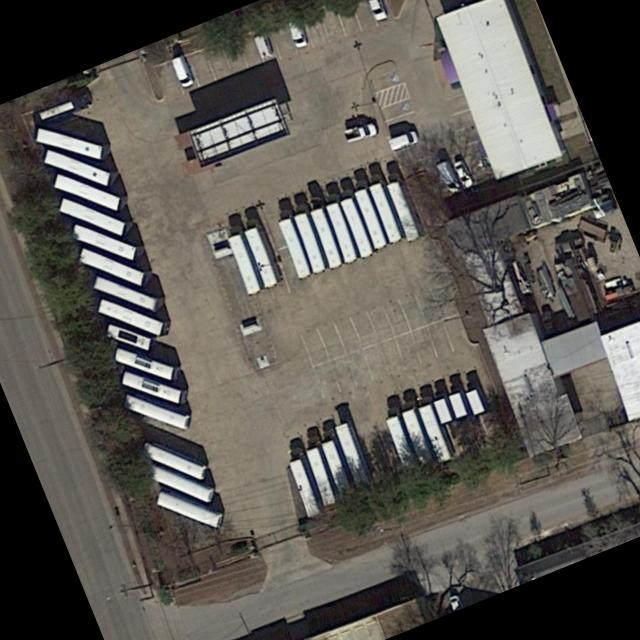large-vehicle: (333, 420, 376, 494), (53, 170, 121, 214), (97, 295, 164, 338), (58, 195, 125, 238), (123, 391, 190, 433), (242, 223, 284, 290), (79, 245, 144, 287), (141, 440, 206, 482), (148, 462, 213, 504), (226, 230, 266, 298), (72, 222, 138, 263), (156, 489, 222, 530), (44, 148, 111, 187), (93, 272, 157, 312), (400, 404, 438, 470), (278, 214, 315, 281), (384, 412, 422, 477), (368, 179, 405, 245), (416, 401, 454, 465), (309, 206, 346, 271), (386, 178, 424, 241), (339, 195, 376, 259), (320, 436, 357, 500), (431, 395, 468, 458), (353, 185, 389, 249), (293, 211, 329, 275), (325, 201, 361, 264), (304, 443, 340, 506), (36, 126, 102, 160), (288, 455, 323, 519), (448, 389, 483, 453), (122, 368, 182, 405), (115, 345, 175, 381), (464, 386, 499, 447), (106, 321, 152, 354), (36, 97, 77, 123)
small-vehicle: (432, 153, 462, 196), (341, 117, 380, 144), (386, 125, 421, 153), (170, 52, 196, 89), (450, 155, 475, 191), (286, 12, 309, 49), (252, 28, 274, 59), (368, 0, 388, 22)
